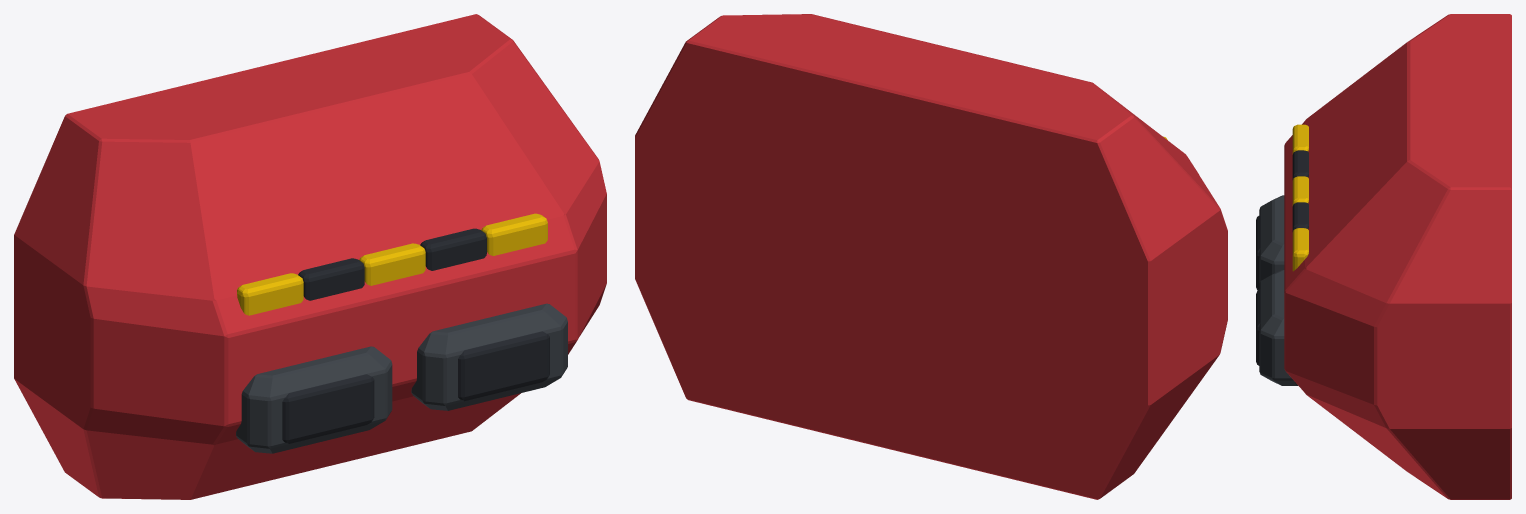
File: HandBack_Set05_Afterburn.fbx
3 views of the same model, side by side, from view 1: azimuth 30°, elevation 25°; view 2: azimuth 150°, elevation 25°; view 3: azimuth 270°, elevation 25° (orthographic). The views are drawn at different scales.
Visible parts, largest first — view 1: HandBack_Set05_Afterburn; view 2: HandBack_Set05_Afterburn; view 3: HandBack_Set05_Afterburn.
Boxes of the visible parts, <box> form: HandBack_Set05_Afterburn: <box>14,14,606,499</box>; HandBack_Set05_Afterburn: <box>635,14,1227,499</box>; HandBack_Set05_Afterburn: <box>1256,14,1511,499</box>.
Bounding box in the file's own units: 0.3 × 0.2 × 0.1483.
